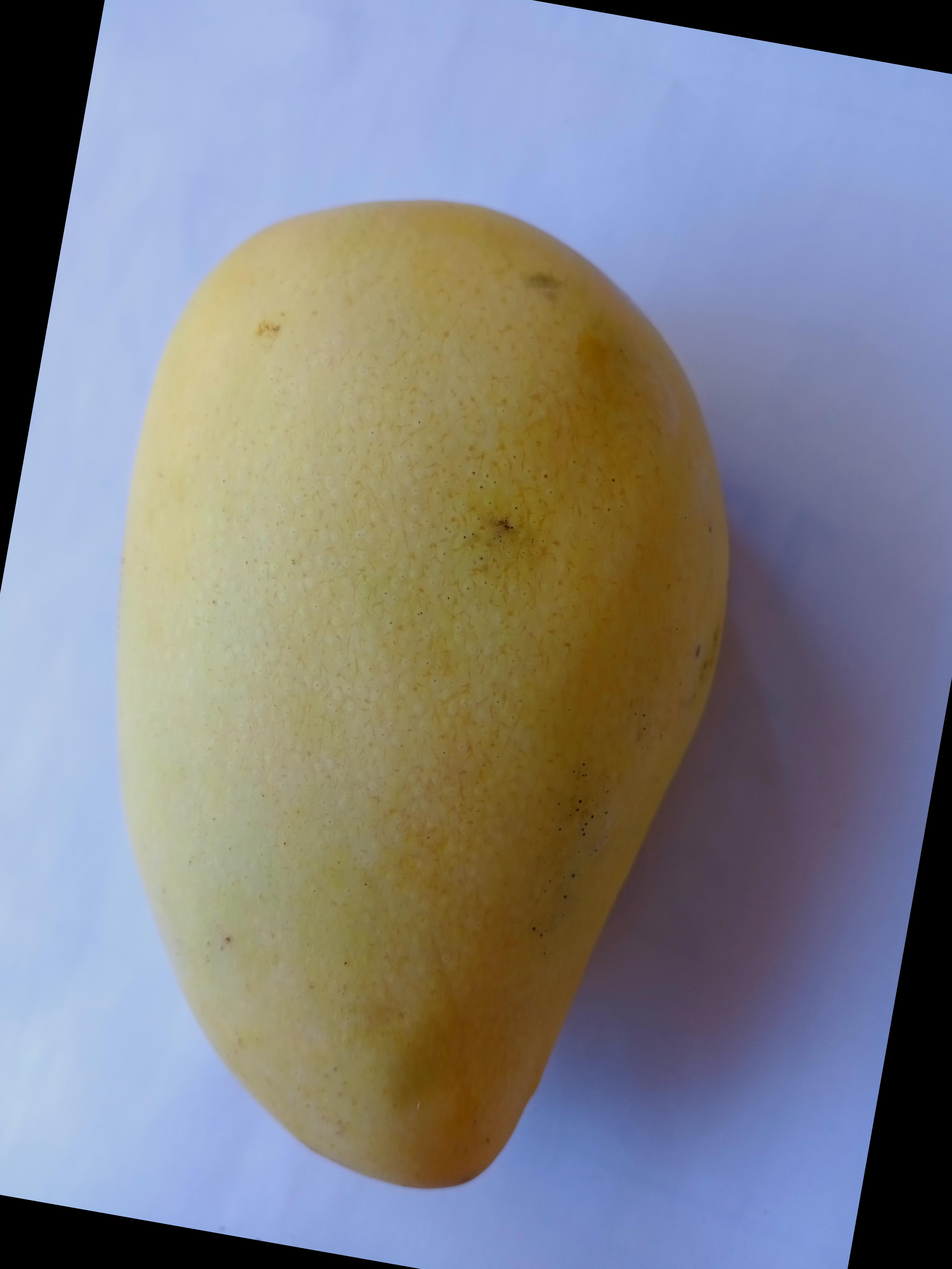Mango Ripe: (130, 21, 952, 1186)
